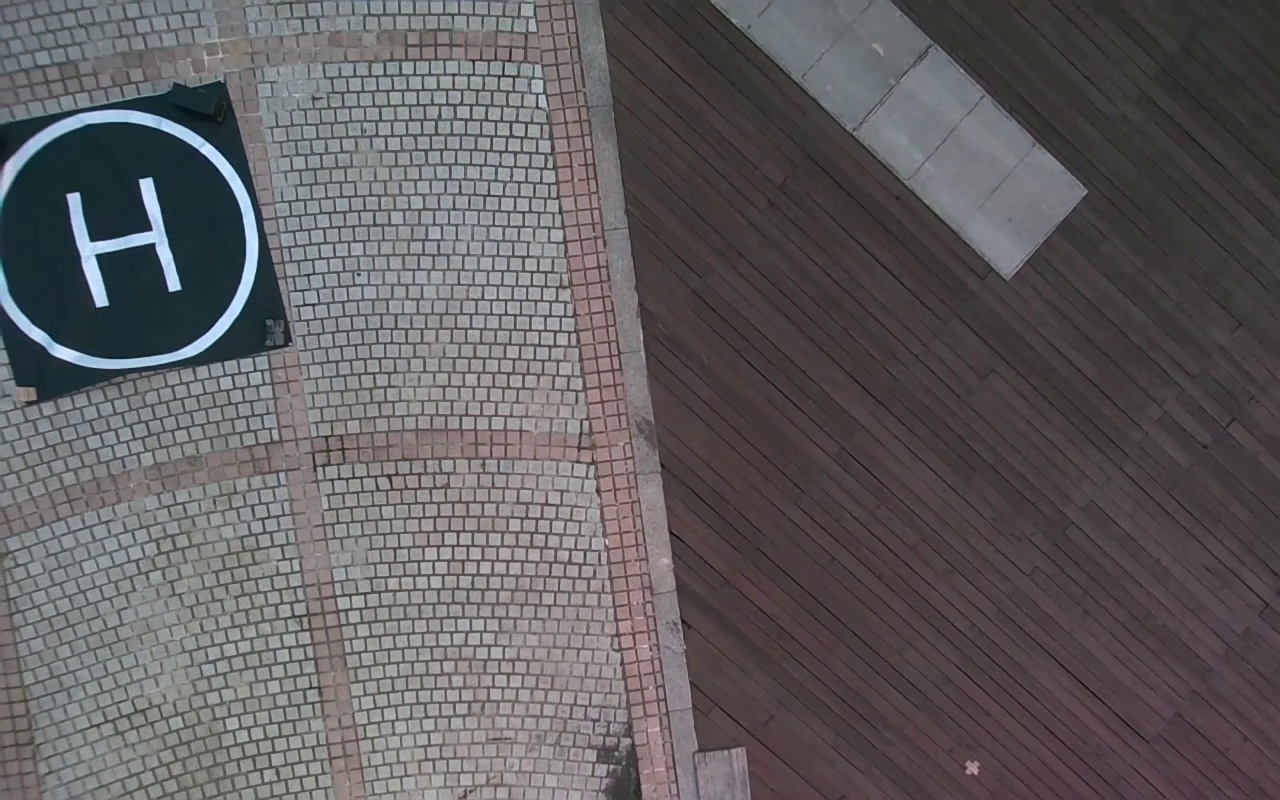H: (65, 177, 183, 308)
